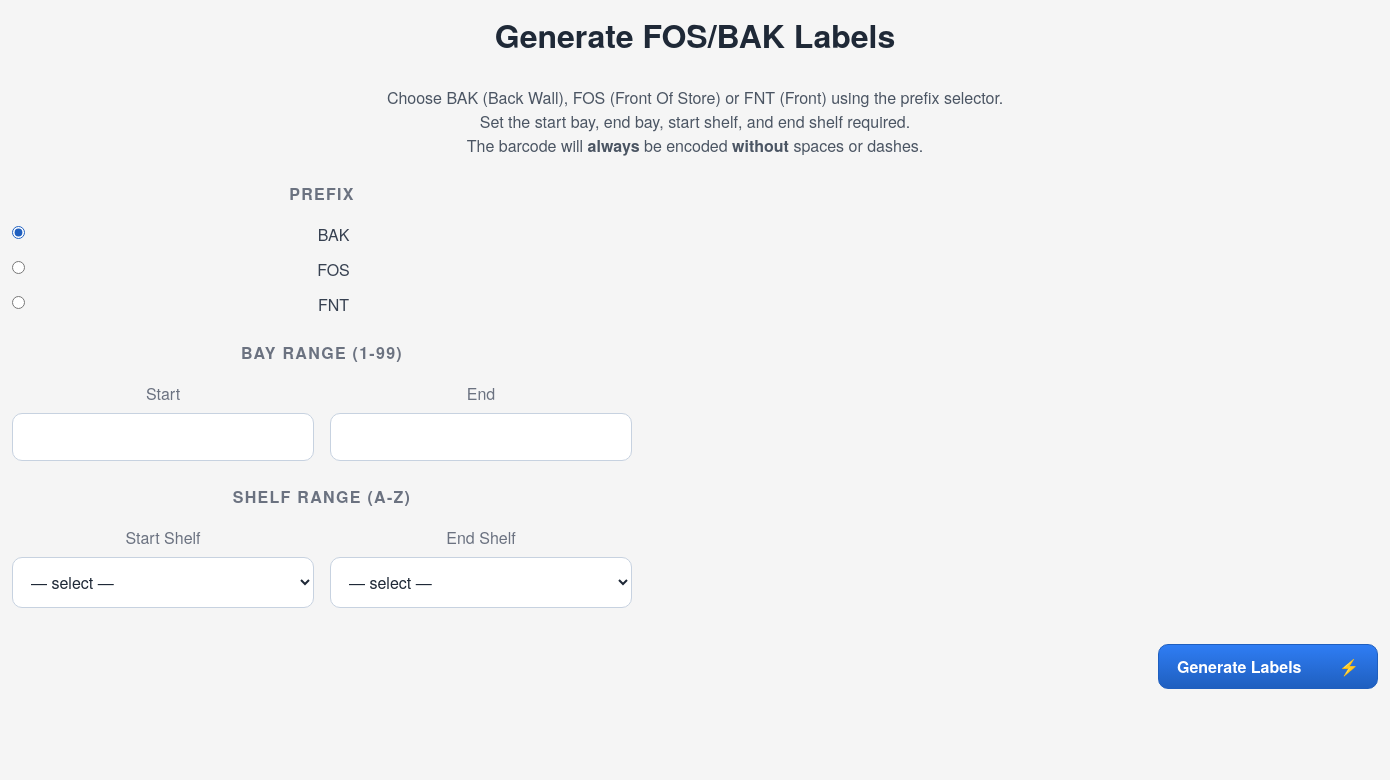
Accessibility checks › has no axe violations in BackLabelForm generated state
Type "1" into the field labelled "Start".
click(163, 437); type("1")  # box [12,413,314,461]
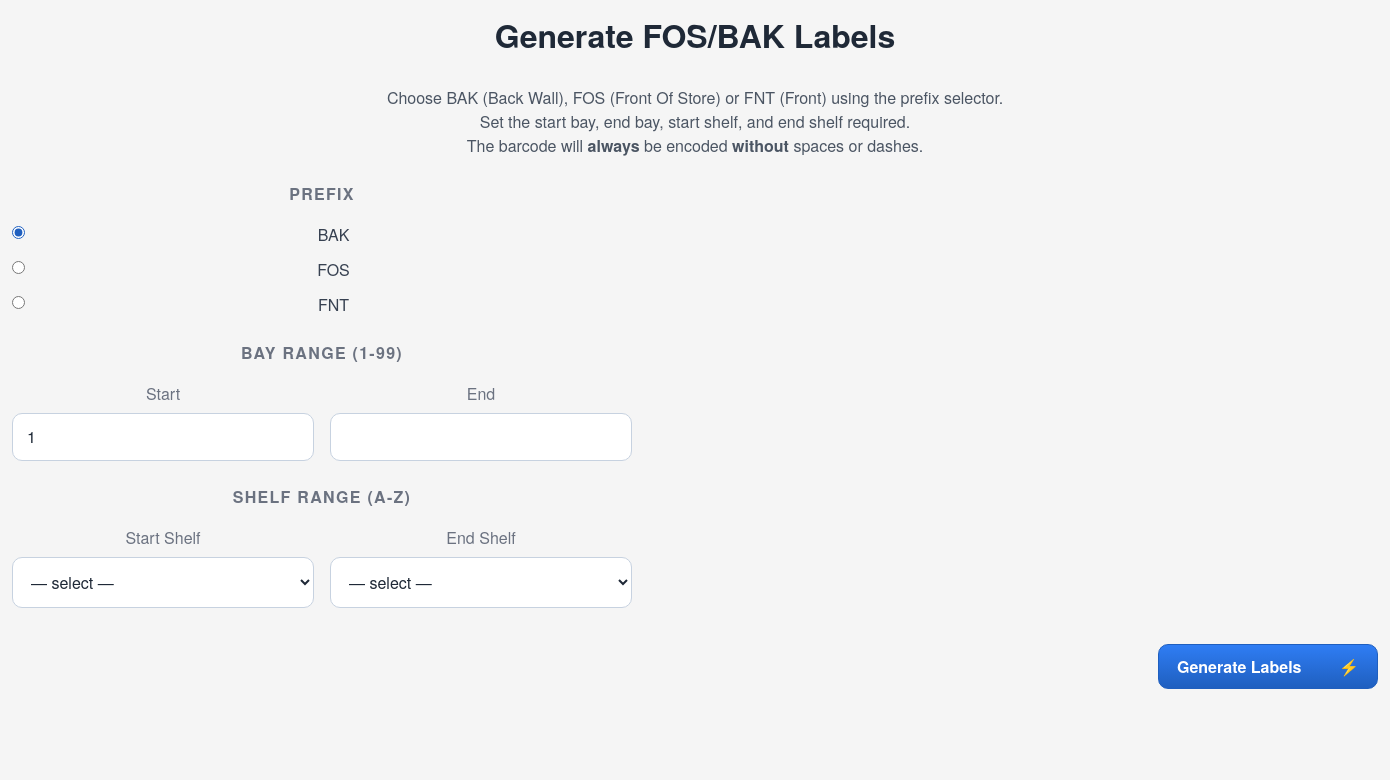
Type "1" into the field labelled "End".
click(481, 437); type("1")  # box [330,413,632,461]
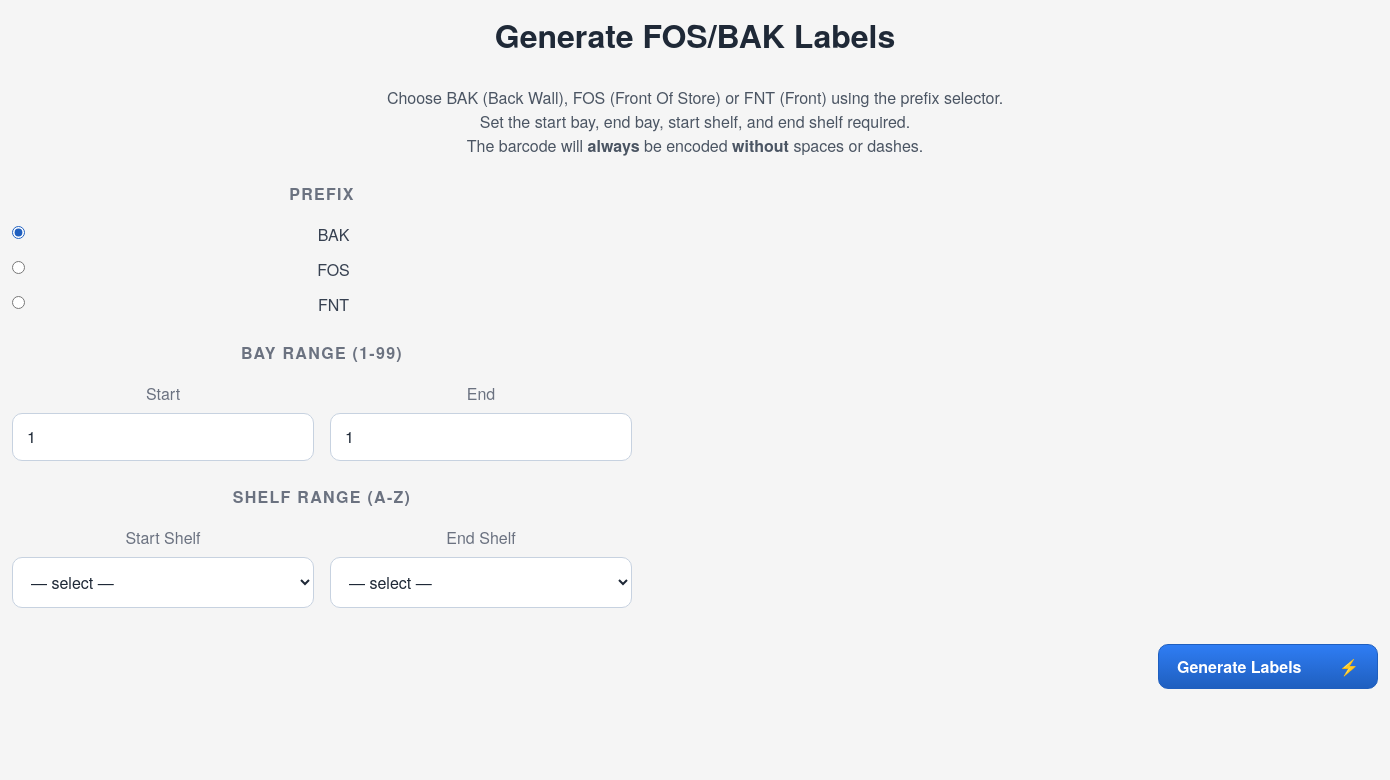
Select "A" in the dropdown labelled "End Shelf" at [481, 582], box [330,557,632,608]
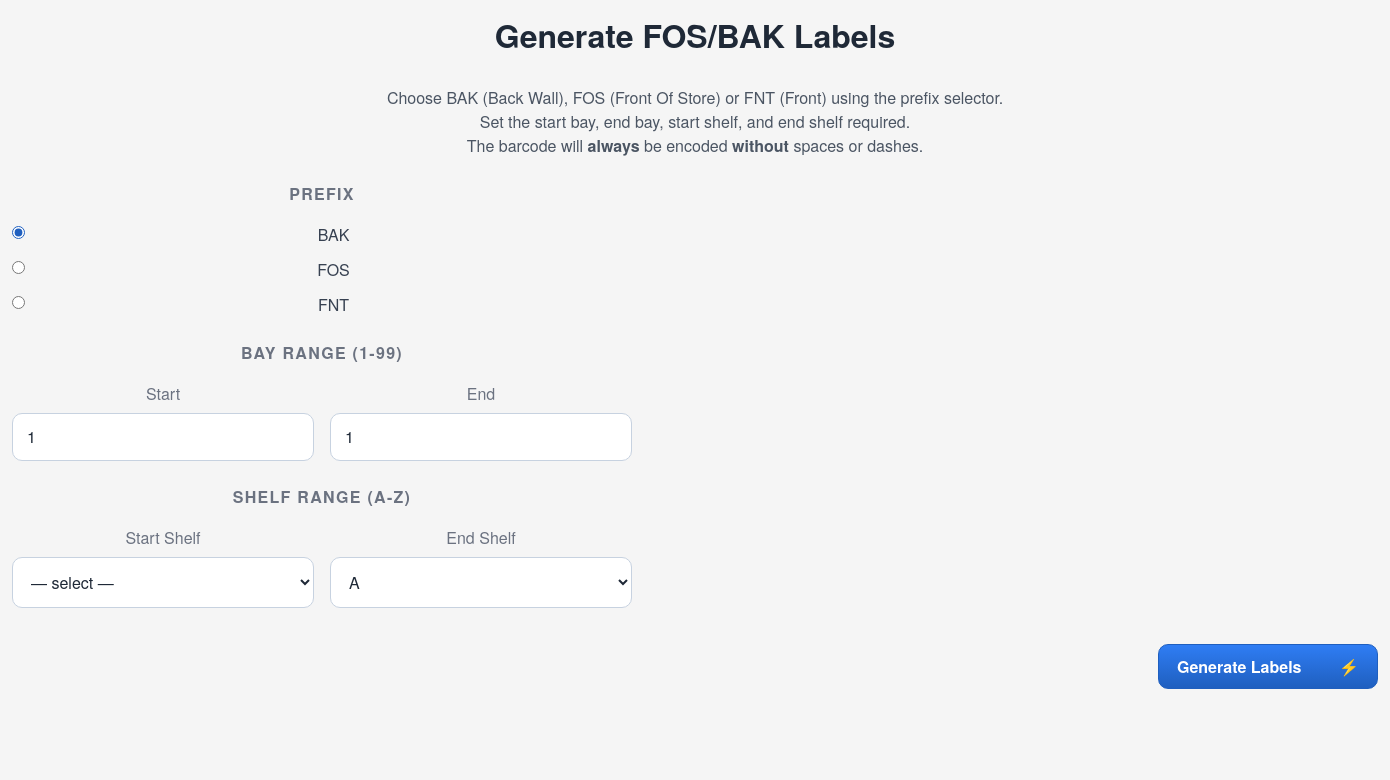
Click the button "Generate Labels ⚡".
click(1268, 667)  # box [1158,644,1378,689]
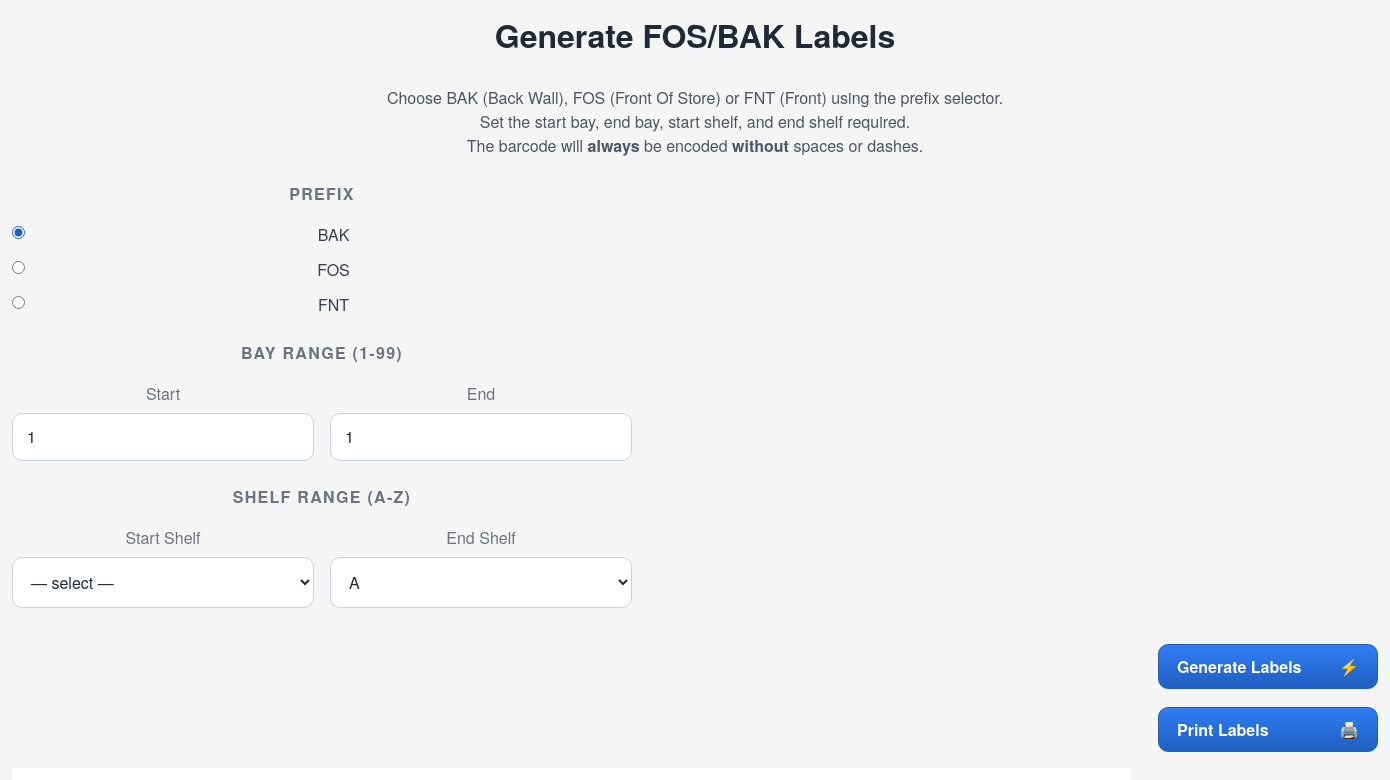
Check: the button "Print Labels 🖨️" is shown, box [1158,707,1378,752]
